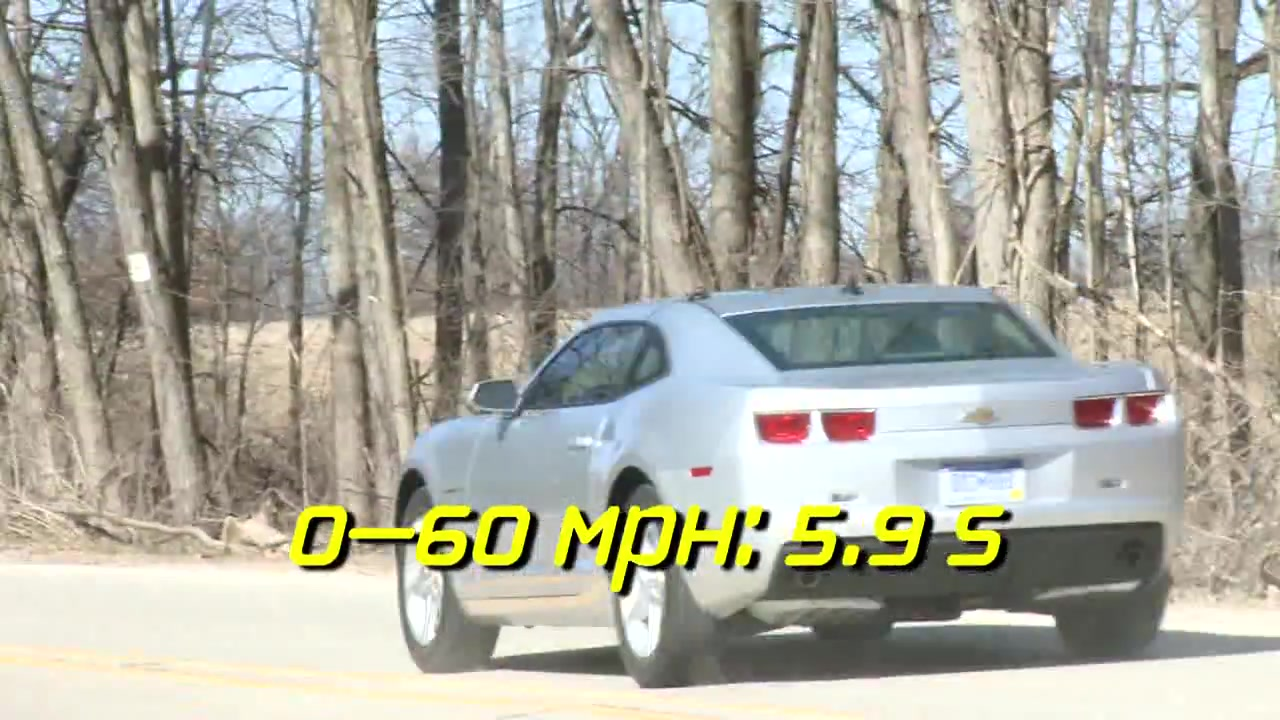car: (391, 282, 1189, 692)
